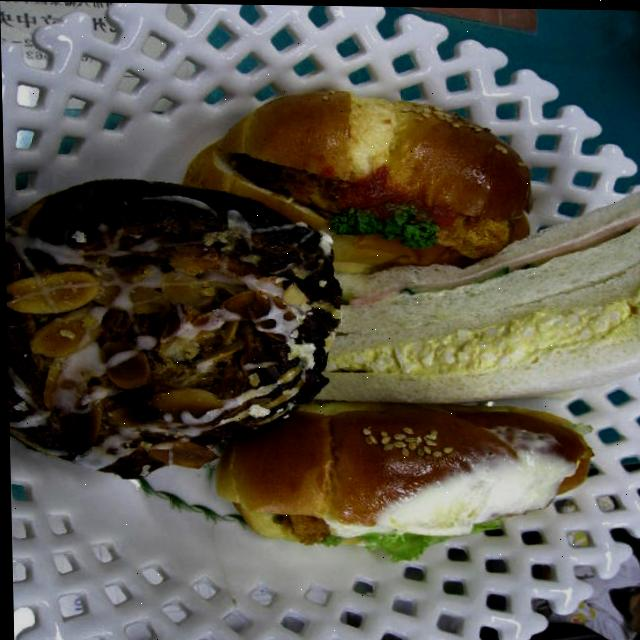三明治: (1, 83, 640, 562)
